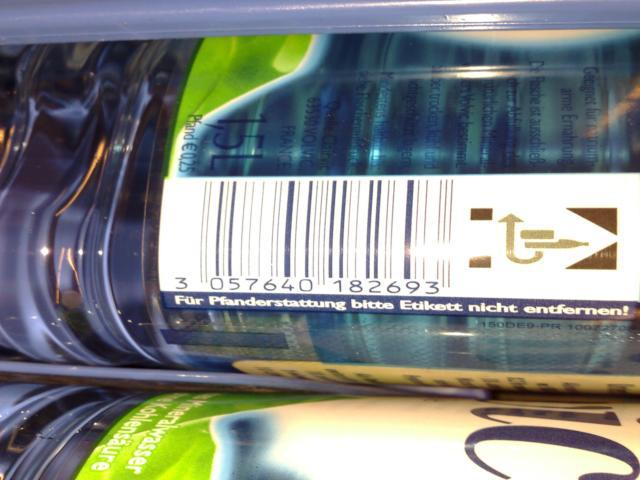Barkod: (201, 177, 455, 280)
